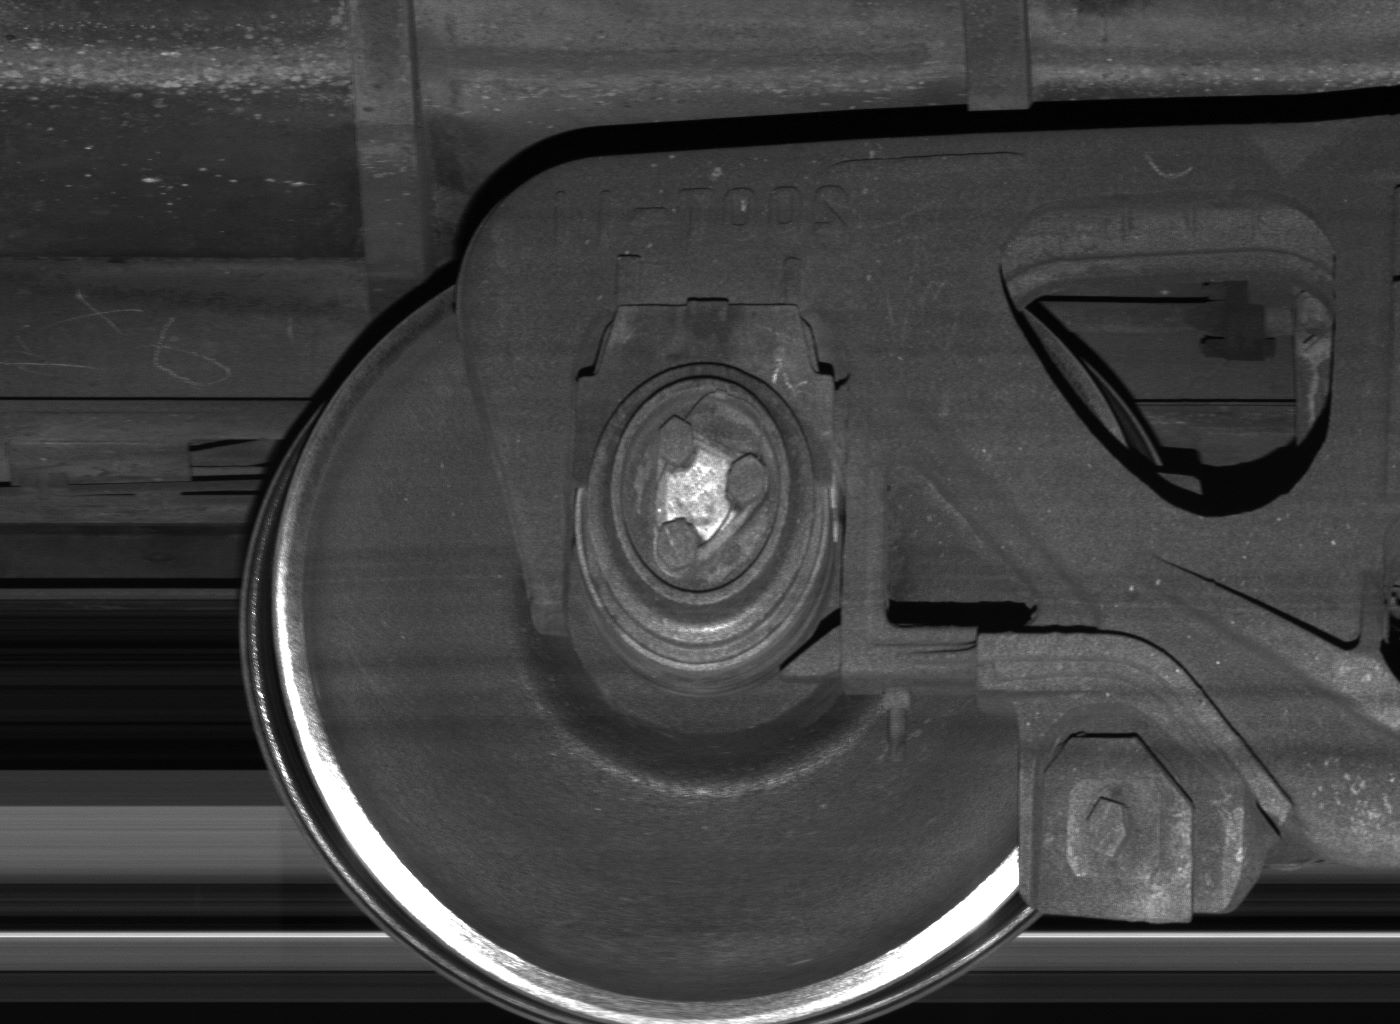normal: (1017, 701, 1247, 922)
